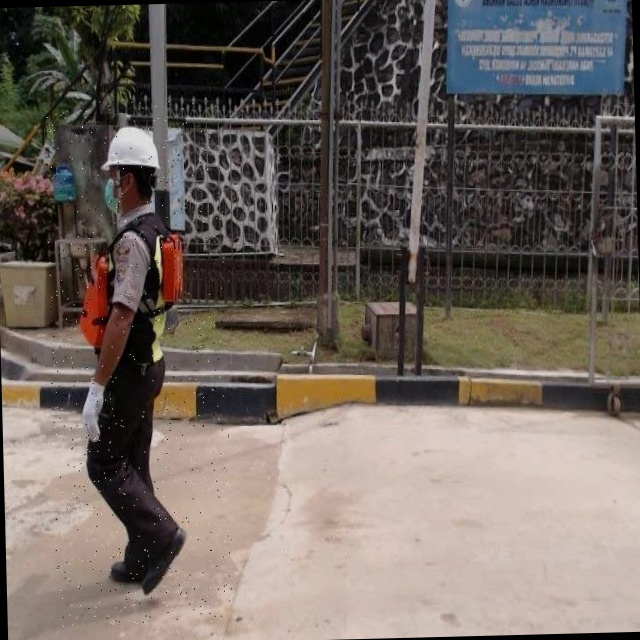boots: (457, 517, 506, 597), (489, 547, 543, 581)
gloves: (532, 374, 568, 444)
helmet: (475, 118, 538, 165)
vest: (455, 217, 563, 364)
